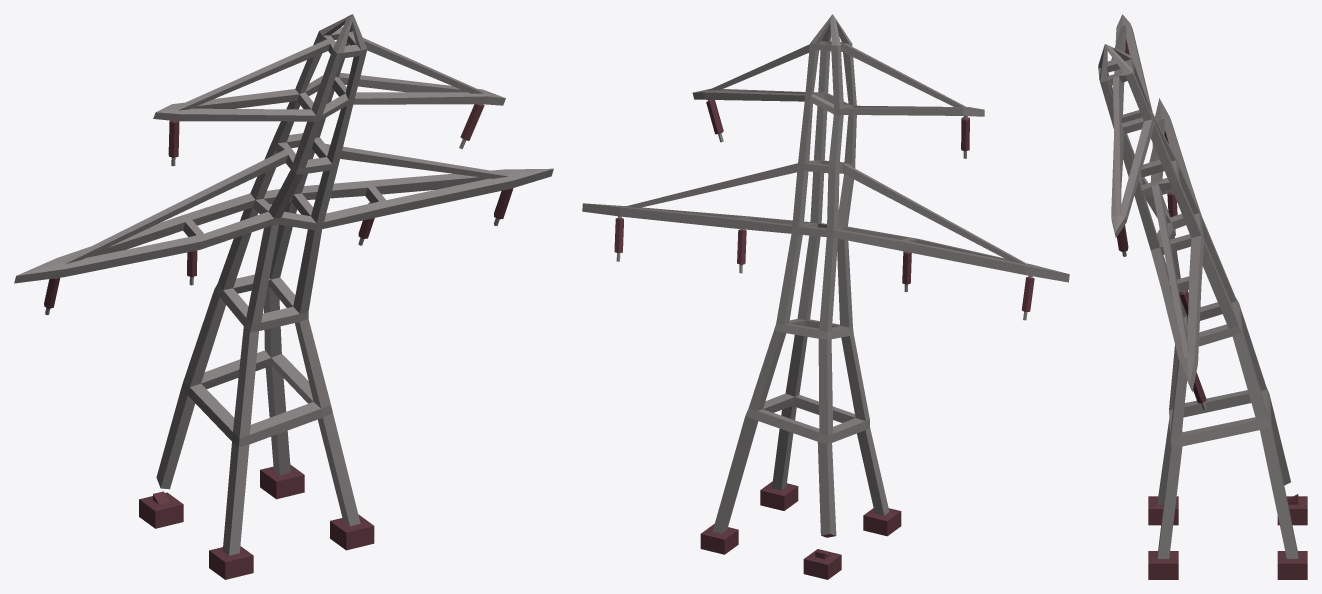
Rendered from power-line-pole-apocalypse-a.fbx.
3 renders of one model, left to right at view 1: azimuth 30°, elevation 25°; view 2: azimuth 150°, elevation 25°; view 3: azimuth 270°, elevation 25°, orthographic. The views are drawn at different scales.
Visible parts, largest first — view 1: power-line-pole-apocalypse-a; view 2: power-line-pole-apocalypse-a; view 3: power-line-pole-apocalypse-a.
Boxes of the visible parts, <box> form: power-line-pole-apocalypse-a: <box>14,14,553,579</box>; power-line-pole-apocalypse-a: <box>582,14,1069,579</box>; power-line-pole-apocalypse-a: <box>1098,14,1307,579</box>.
Size of the model in its own units: 13.76 by 13.22 by 4.87.
